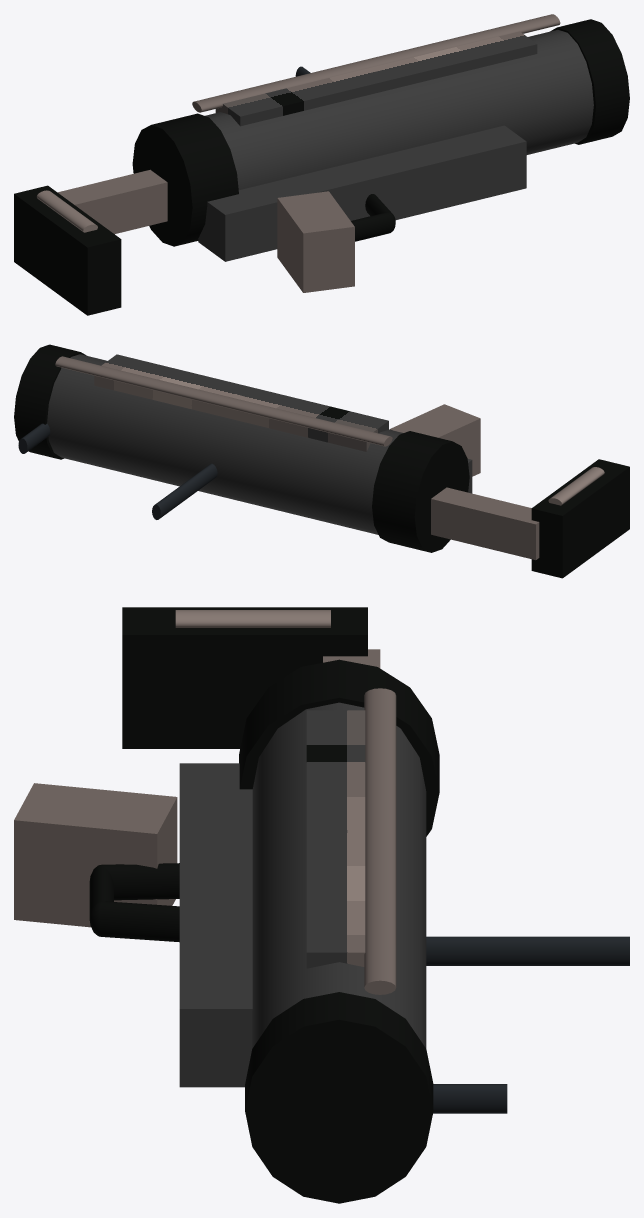
File: CMU3DReduxCMUWeaponLauncherM81WorldRMCWeaponLauncherM81Cloud.glb
The picture shows the model from 3 angles, top to bottom: view 1: azimuth 30°, elevation 25°; view 2: azimuth 150°, elevation 25°; view 3: azimuth 270°, elevation 25°; orthographic projection. The views are drawn at different scales.
Visible parts, largest first — view 1: closed large tube exterior, lower receiver, vertical stock butt, tube rear collar, tube source reflection strip, brown grip, tube muzzle exterior rim, short stock strut, tube upper reflective band, butt metal insert, small trigger guard member 2; view 2: closed large tube exterior, tube rear collar, tube source reflection strip, vertical stock butt, short stock strut, tube upper reflective band, tube muzzle exterior rim, brown grip, tall source rear sight stem, butt metal insert, source front sight stem; view 3: tube muzzle exterior rim, closed large tube exterior, lower receiver, vertical stock butt, brown grip, tube source reflection strip, tube rear collar, tube upper reflective band, tall source rear sight stem, small trigger guard member 3, butt metal insert, small trigger guard member 1 (+2 smaller).
Part boxes in pixels (x1,y1,x2,y2): closed large tube exterior: [205, 29, 593, 190]; lower receiver: [198, 125, 526, 261]; vertical stock butt: [14, 185, 121, 315]; tube rear collar: [132, 113, 238, 246]; tube source reflection strip: [215, 31, 537, 126]; brown grip: [277, 191, 354, 292]; tube muzzle exterior rim: [550, 19, 629, 144]; short stock strut: [57, 169, 167, 234]; tube upper reflective band: [192, 14, 560, 112]; butt metal insert: [36, 190, 97, 232]; small trigger guard member 2: [351, 212, 392, 241]; closed large tube exterior: [47, 354, 403, 534]; tube rear collar: [372, 431, 469, 552]; tube source reflection strip: [94, 354, 388, 451]; vertical stock butt: [531, 459, 629, 578]; short stock strut: [431, 487, 539, 560]; tube upper reflective band: [55, 356, 392, 446]; tube muzzle exterior rim: [14, 344, 86, 459]; brown grip: [389, 404, 480, 476]; tall source rear sight stem: [152, 463, 217, 519]; butt metal insert: [548, 467, 604, 505]; source front sight stem: [18, 423, 50, 453]; tube muzzle exterior rim: [245, 992, 433, 1203]; closed large tube exterior: [252, 702, 426, 1048]; lower receiver: [179, 763, 252, 1087]; vertical stock butt: [122, 607, 367, 748]; brown grip: [14, 783, 177, 927]; tube source reflection strip: [306, 710, 365, 968]; tube rear collar: [239, 659, 439, 836]; tube upper reflective band: [364, 688, 396, 994]; tall source rear sight stem: [426, 936, 629, 965]; small trigger guard member 3: [100, 901, 179, 942]; butt metal insert: [175, 610, 330, 627]; small trigger guard member 1: [102, 863, 179, 900].
Bounding box in the file's own units: 0.8531 × 0.168 × 0.4702.
6 materials, 1 textured.
